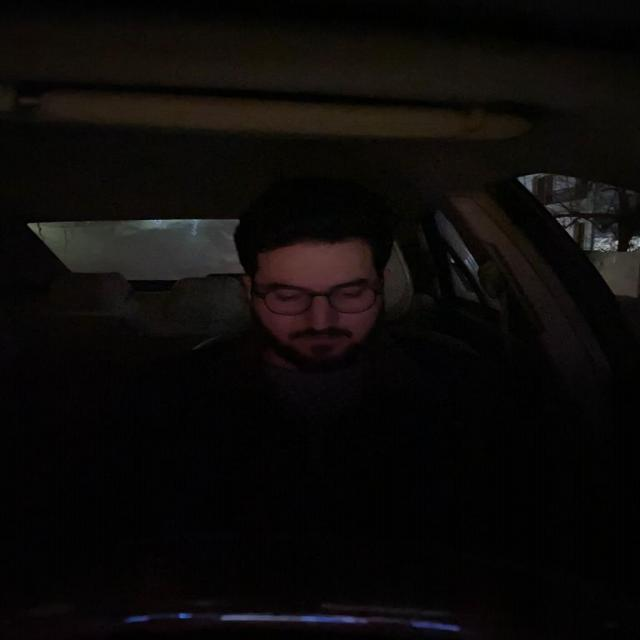drowsy: (222, 202, 405, 376)
